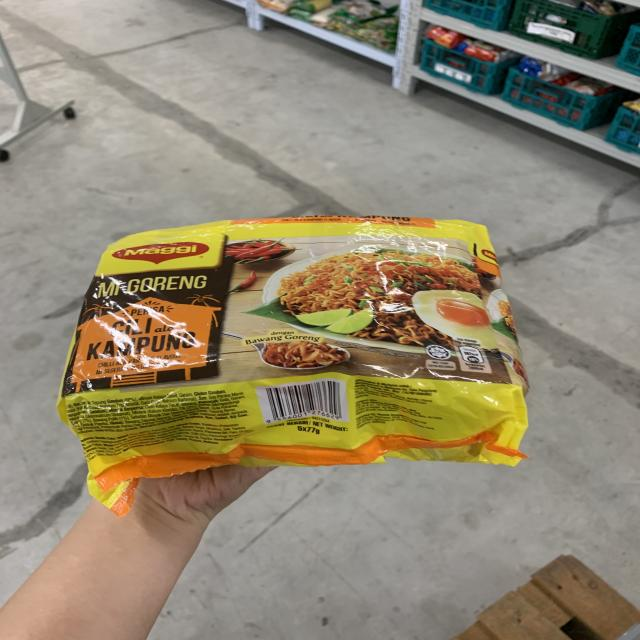object_name: (91, 239, 511, 443)
